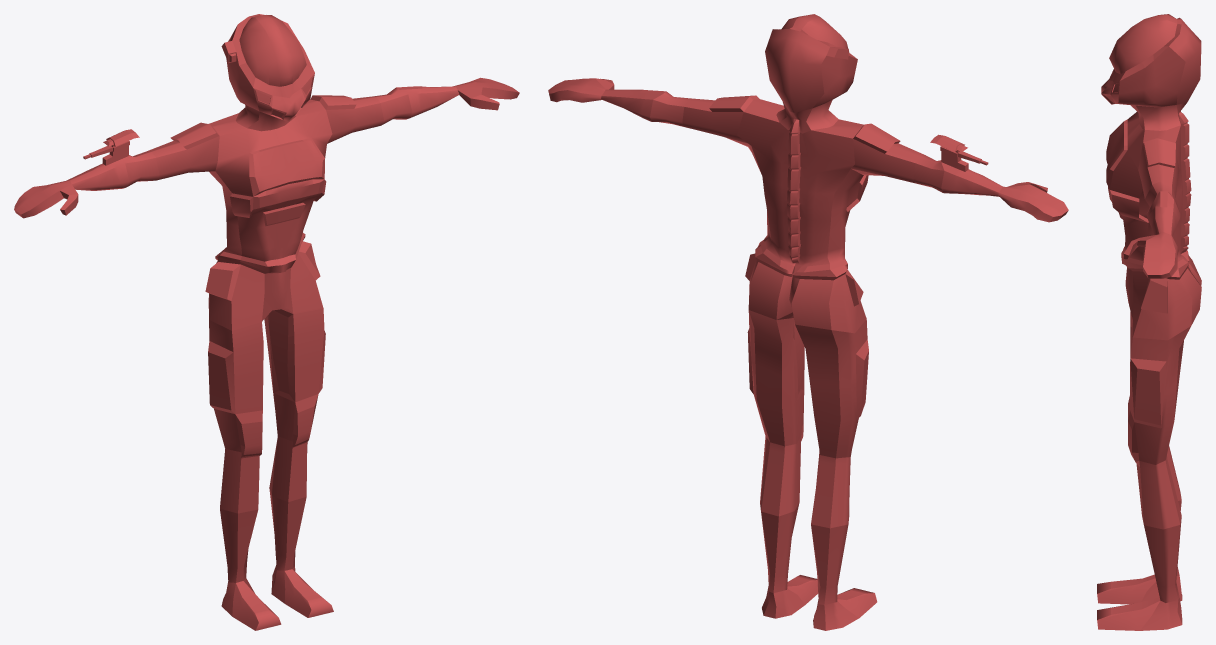
File: Protagonist T-Pose.fbx
3 views of the same model, side by side, from view 1: azimuth 30°, elevation 25°; view 2: azimuth 150°, elevation 25°; view 3: azimuth 270°, elevation 25° (orthographic). The views are drawn at different scales.
Visible parts, largest first — view 1: pCube4; view 2: pCube4; view 3: pCube4.
Boxes of the visible parts, bbox=[...] form: pCube4: bbox=[14, 14, 519, 630]; pCube4: bbox=[548, 14, 1068, 630]; pCube4: bbox=[1097, 14, 1201, 630].
Bounding box in the file's own units: 150 × 167 × 26.73.
